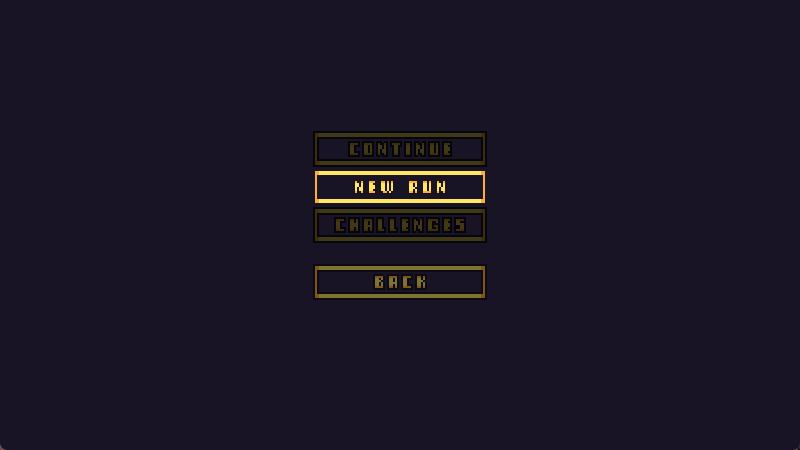start_screen_new_run: (314, 171, 487, 202)
